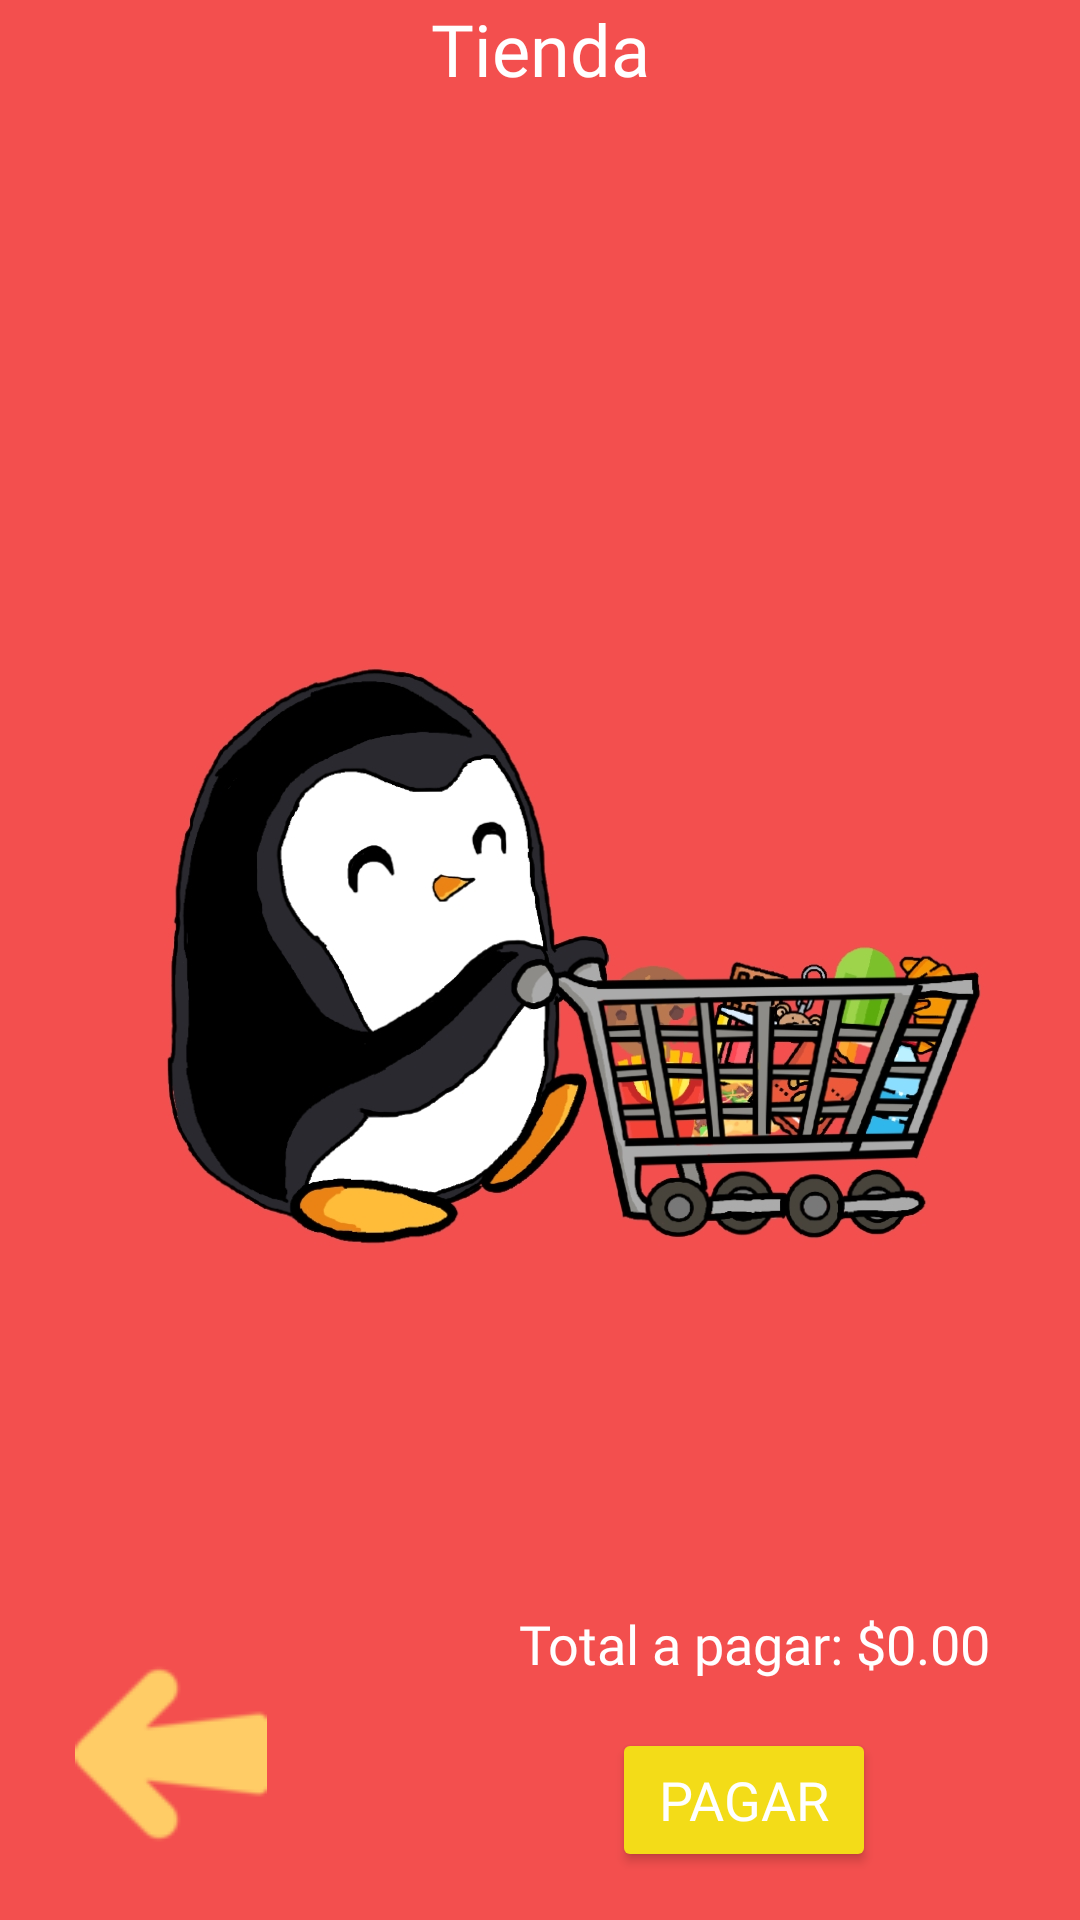

Icons on this 1080px×1920px Android screen, each with the point to tap as point (x, y):
flechaizquiera: point (171, 1754)
